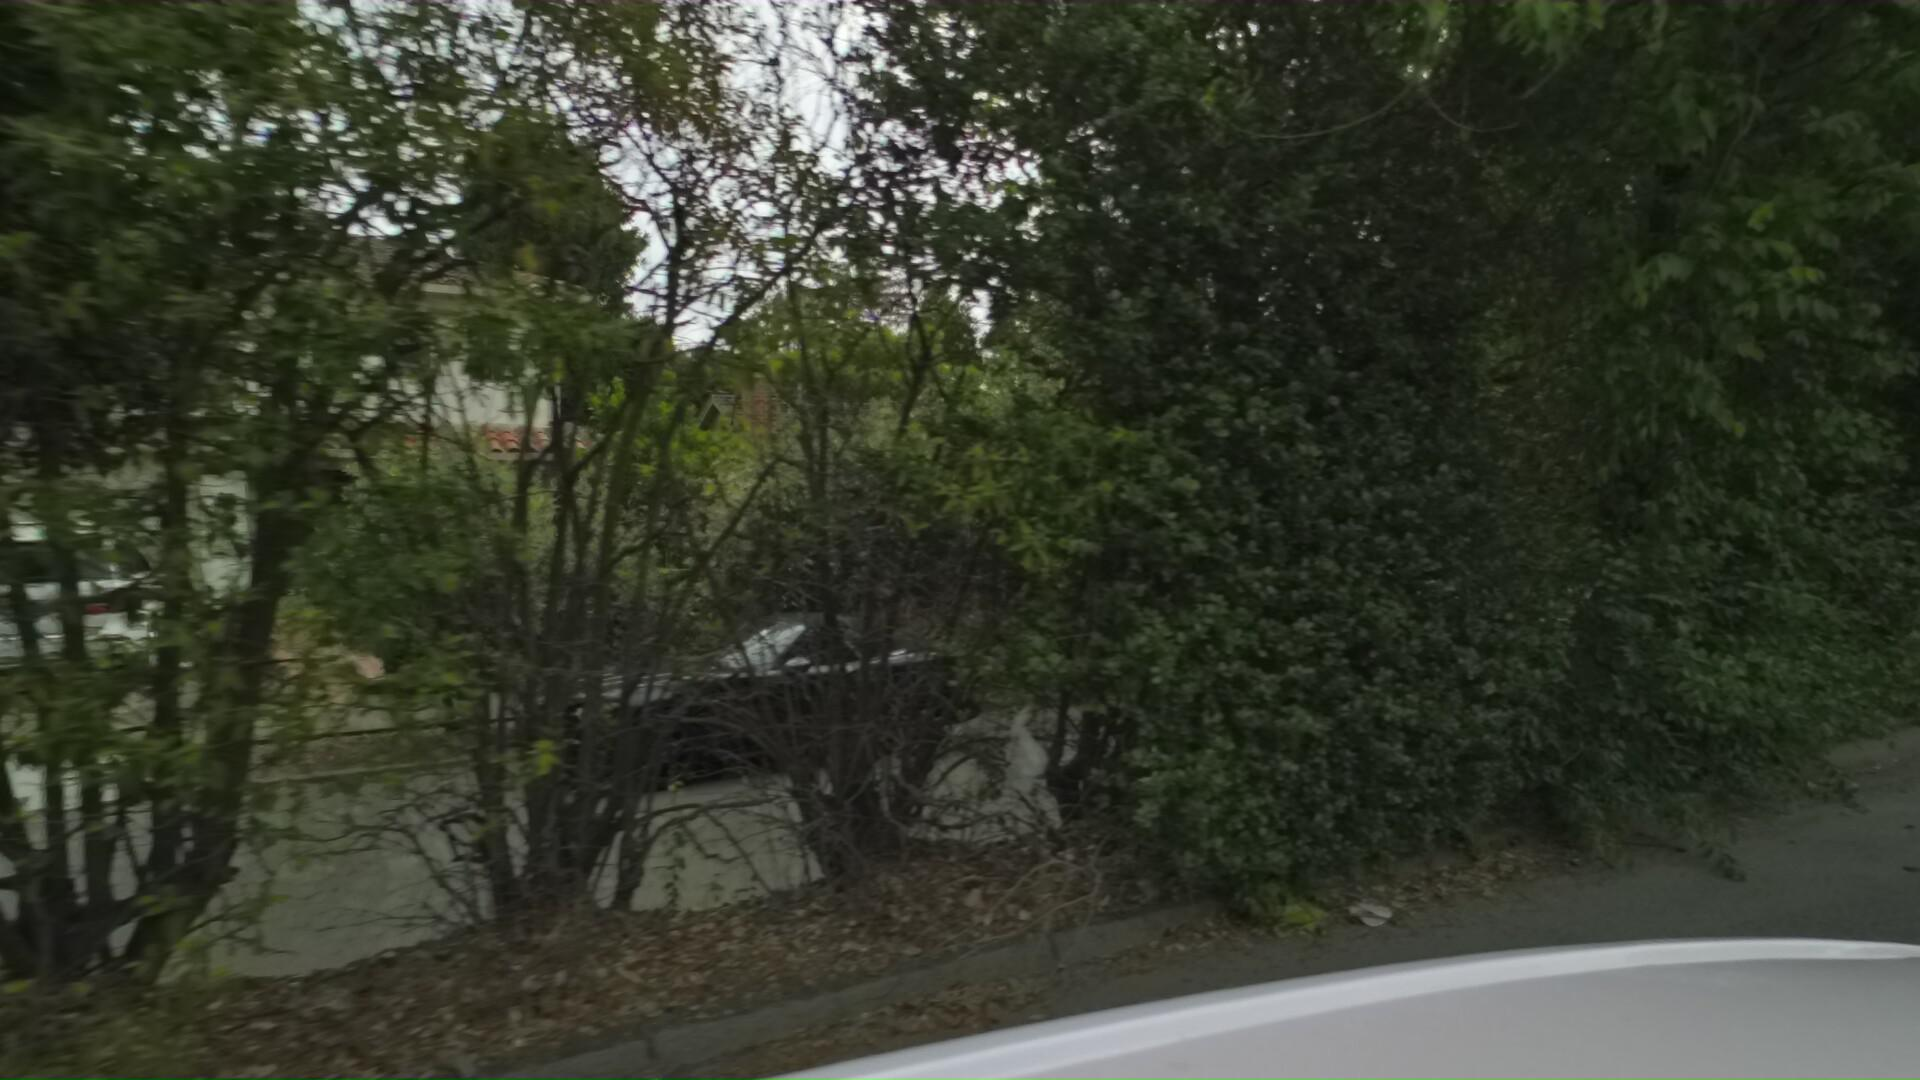car: (580, 593, 1073, 841), (0, 510, 235, 708)
